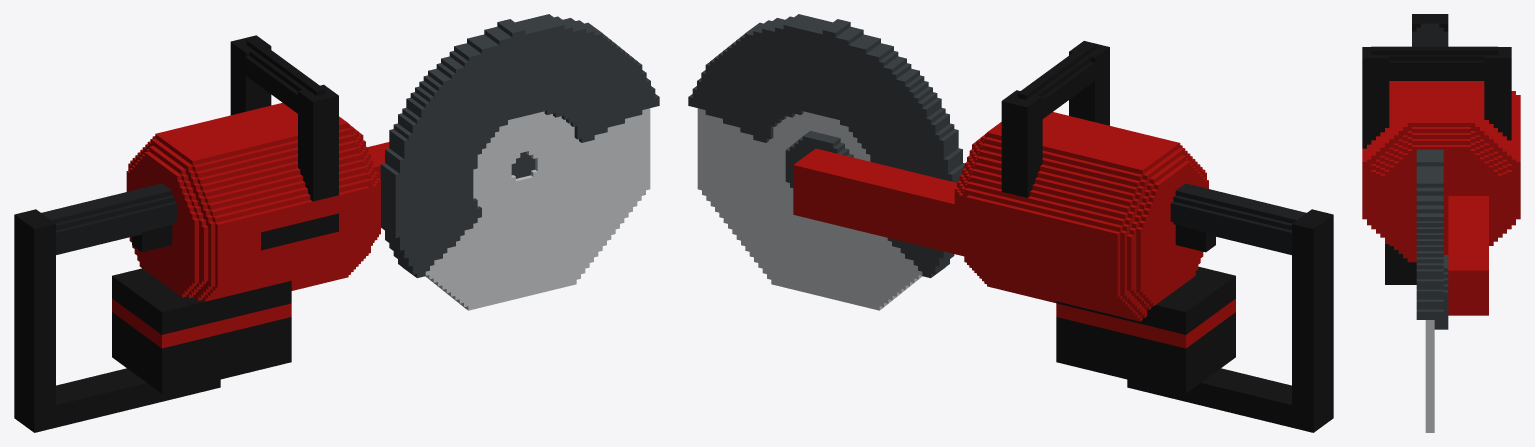
Rendered from electric_masonrysaw_off.glb.
3 views of the same model, side by side, from view 1: azimuth 30°, elevation 25°; view 2: azimuth 150°, elevation 25°; view 3: azimuth 270°, elevation 25° (orthographic). The views are drawn at different scales.
Visible parts, largest first — view 1: electric_masonrysaw_off:compound; view 2: electric_masonrysaw_off:compound; view 3: electric_masonrysaw_off:compound.
Part boxes in pixels (box(x1,y1,x2,y2)): electric_masonrysaw_off:compound: box(14, 14, 659, 432); electric_masonrysaw_off:compound: box(688, 14, 1333, 432); electric_masonrysaw_off:compound: box(1362, 14, 1520, 432).
Size of the model in its own units: 0.58 by 0.26 by 0.14.
